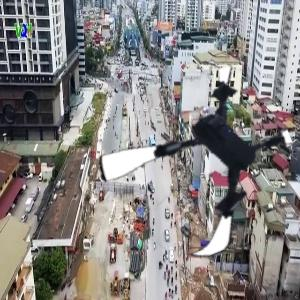drone: (102, 67, 295, 260)
